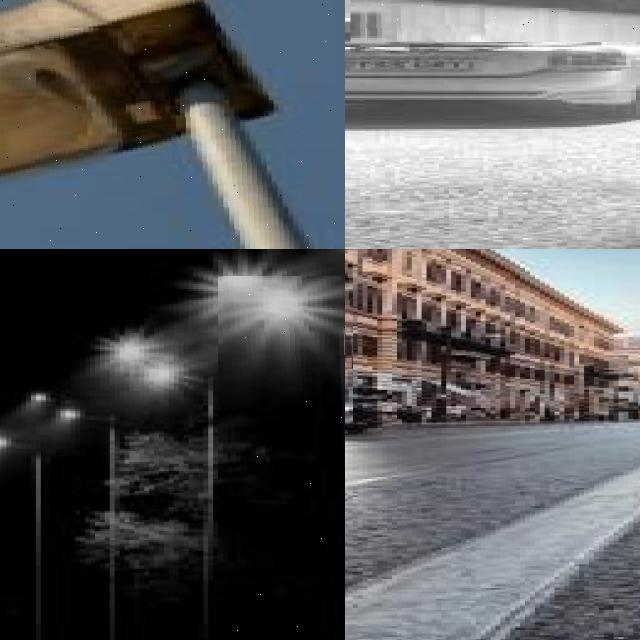street light: (0, 0, 345, 249), (222, 276, 345, 640), (109, 342, 215, 640), (26, 393, 117, 640), (0, 420, 41, 640), (432, 319, 506, 423)
